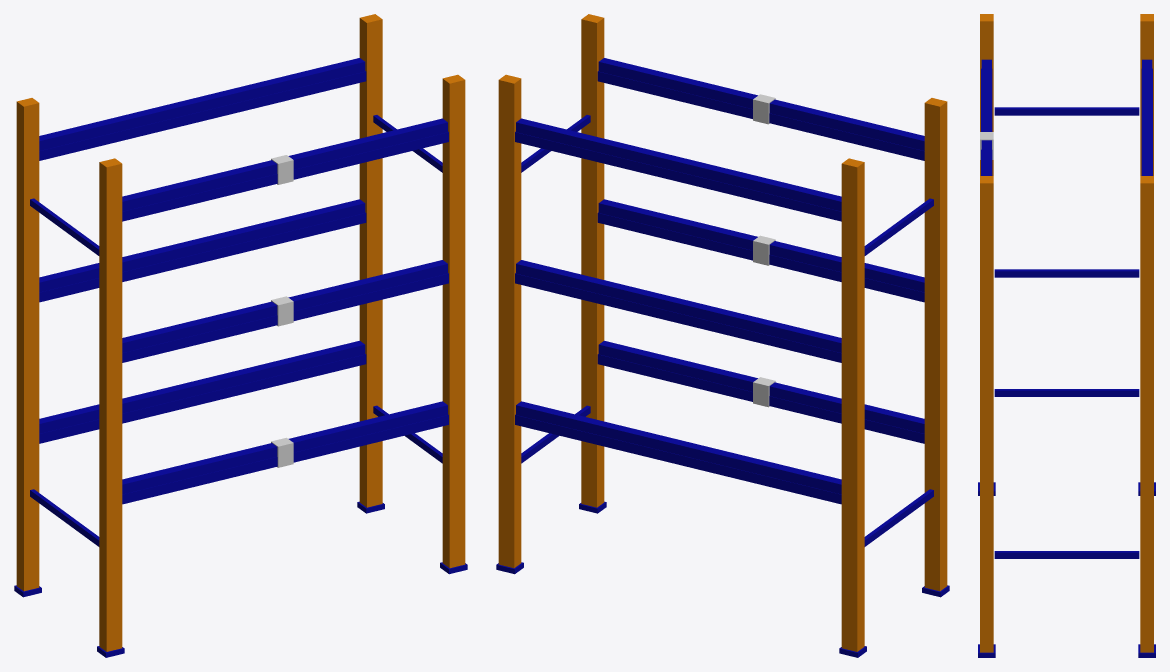
Rendered from high-duty-C23-3.glb.
3 views of the same model, side by side, from view 1: azimuth 30°, elevation 25°; view 2: azimuth 150°, elevation 25°; view 3: azimuth 270°, elevation 25° (orthographic). The views are drawn at different scales.
Parts seen in each view (by area): view 1: part_0, part_4, part_2, part_6, part_20, part_18, part_8, part_13, part_15, part_10, part_21, part_19 (+6 smaller); view 2: part_4, part_0, part_6, part_2, part_10, part_20, part_15, part_18, part_8, part_13, part_21, part_11 (+6 smaller); view 3: part_2, part_6, part_24, part_26, part_20, part_18, part_23, part_25, part_4, part_0.
Part boxes in pixels (x1,y1,x2,y2): part_0: [99, 158, 122, 651]; part_4: [16, 98, 39, 591]; part_2: [442, 74, 465, 568]; part_6: [359, 14, 382, 507]; part_20: [39, 58, 365, 150]; part_18: [122, 118, 447, 211]; part_8: [122, 401, 447, 494]; part_13: [122, 260, 447, 352]; part_15: [39, 199, 365, 292]; part_10: [39, 340, 365, 433]; part_21: [39, 71, 366, 160]; part_19: [122, 131, 448, 221]; part_4: [841, 158, 864, 651]; part_0: [924, 98, 947, 591]; part_6: [498, 74, 521, 568]; part_2: [581, 14, 604, 507]; part_10: [516, 401, 841, 494]; part_20: [516, 118, 841, 211]; part_15: [516, 260, 841, 352]; part_18: [598, 58, 924, 150]; part_8: [598, 340, 924, 433]; part_13: [598, 199, 924, 292]; part_21: [515, 131, 841, 221]; part_11: [515, 414, 841, 504]; part_2: [980, 176, 993, 652]; part_6: [1140, 176, 1153, 652]; part_24: [994, 107, 1139, 115]; part_26: [994, 269, 1139, 277]; part_20: [1142, 59, 1152, 175]; part_18: [981, 59, 991, 175]; part_23: [994, 389, 1139, 396]; part_25: [994, 551, 1139, 558]; part_4: [1140, 14, 1153, 175]; part_0: [980, 14, 993, 175].
Bounding box in the file's own units: 2320 × 3000 × 1020.
